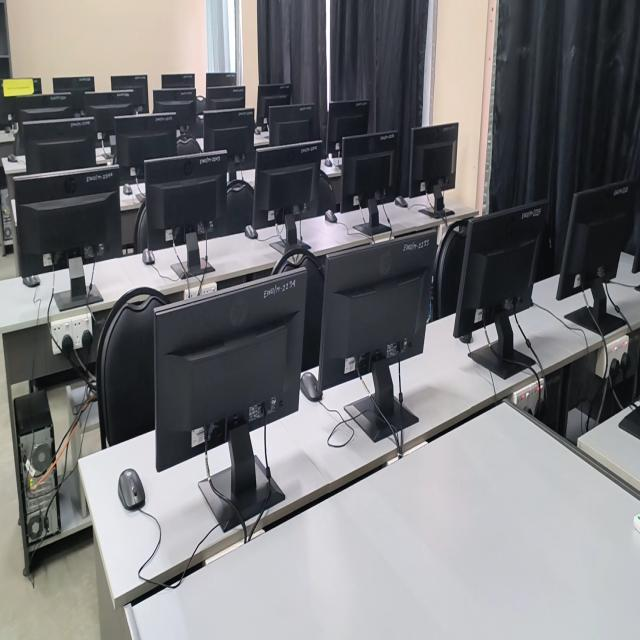Chair: (95, 287, 167, 448), (283, 253, 324, 371), (430, 220, 467, 321), (227, 180, 254, 233), (318, 169, 336, 214), (134, 200, 148, 252), (177, 137, 202, 155), (150, 252, 154, 264)
Cpu: (14, 391, 60, 547)
Monitor: (154, 270, 307, 472), (318, 231, 436, 418), (453, 201, 547, 377), (14, 167, 122, 300), (556, 181, 635, 320), (145, 151, 227, 249), (253, 141, 321, 229), (341, 131, 397, 212), (115, 114, 177, 181), (23, 119, 97, 174), (410, 123, 458, 196), (16, 94, 74, 149), (204, 109, 254, 168), (85, 91, 135, 140), (327, 101, 369, 153), (269, 104, 314, 146), (153, 88, 197, 124), (255, 84, 291, 127), (53, 76, 94, 113), (111, 75, 149, 111), (206, 86, 245, 110), (162, 73, 195, 88), (206, 73, 236, 87)
Mouse: (118, 469, 145, 509), (300, 371, 322, 402), (22, 276, 40, 287), (244, 225, 258, 239), (143, 248, 155, 264), (394, 195, 408, 207), (325, 210, 337, 223), (123, 185, 132, 195), (7, 153, 17, 161)
